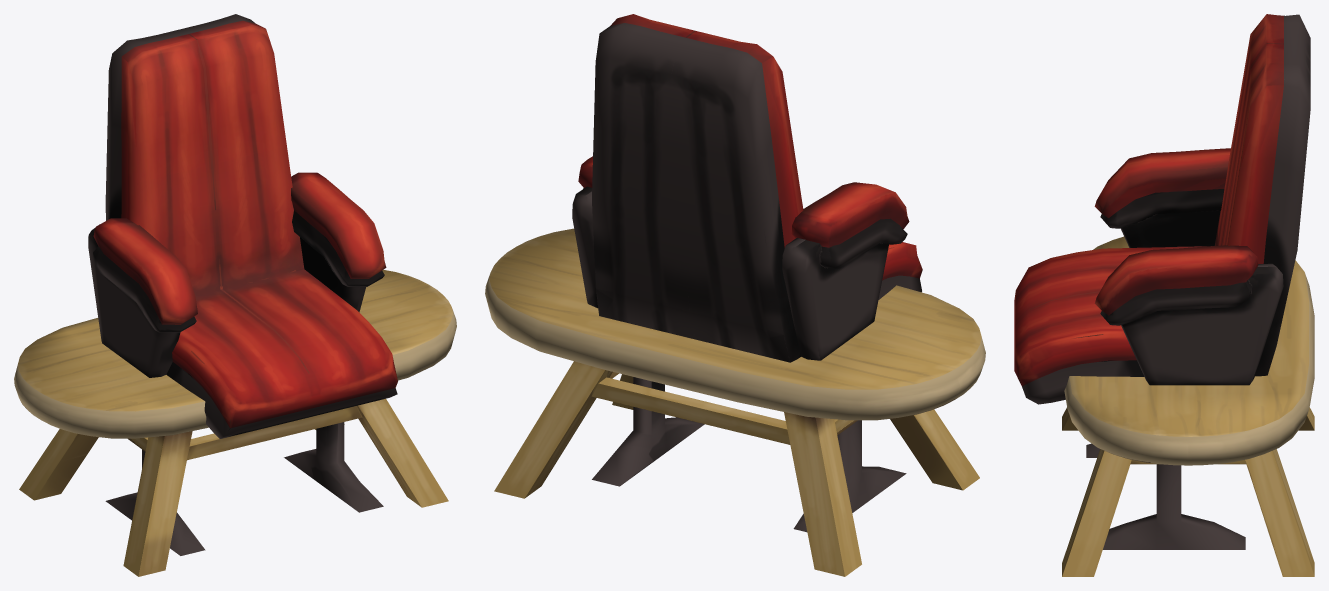
The model's file is props1.fbx.
3 views of the same model, side by side, from view 1: azimuth 30°, elevation 25°; view 2: azimuth 150°, elevation 25°; view 3: azimuth 270°, elevation 25° (orthographic). The views are drawn at different scales.
Visible parts, largest first — view 1: Cube.001, Cube, Cube.002, Cube.003; view 2: Cube.001, Cube, Cube.003, Cube.002; view 3: Cube.001, Cube.002, Cube, Cube.003.
Boxes of the visible parts, <box> form: Cube.001: <box>105,14,397,555</box>; Cube: <box>14,270,456,438</box>; Cube.002: <box>88,172,386,377</box>; Cube.003: <box>19,398,448,576</box>; Cube.001: <box>592,14,922,532</box>; Cube: <box>485,228,985,420</box>; Cube.003: <box>494,361,979,576</box>; Cube.002: <box>572,156,909,360</box>; Cube.001: <box>1014,14,1310,549</box>; Cube.002: <box>1094,148,1283,385</box>; Cube: <box>1064,236,1314,465</box>; Cube.003: <box>1062,407,1314,576</box>.
Bounding box in the file's own units: 80 × 79.52 × 47.58.
